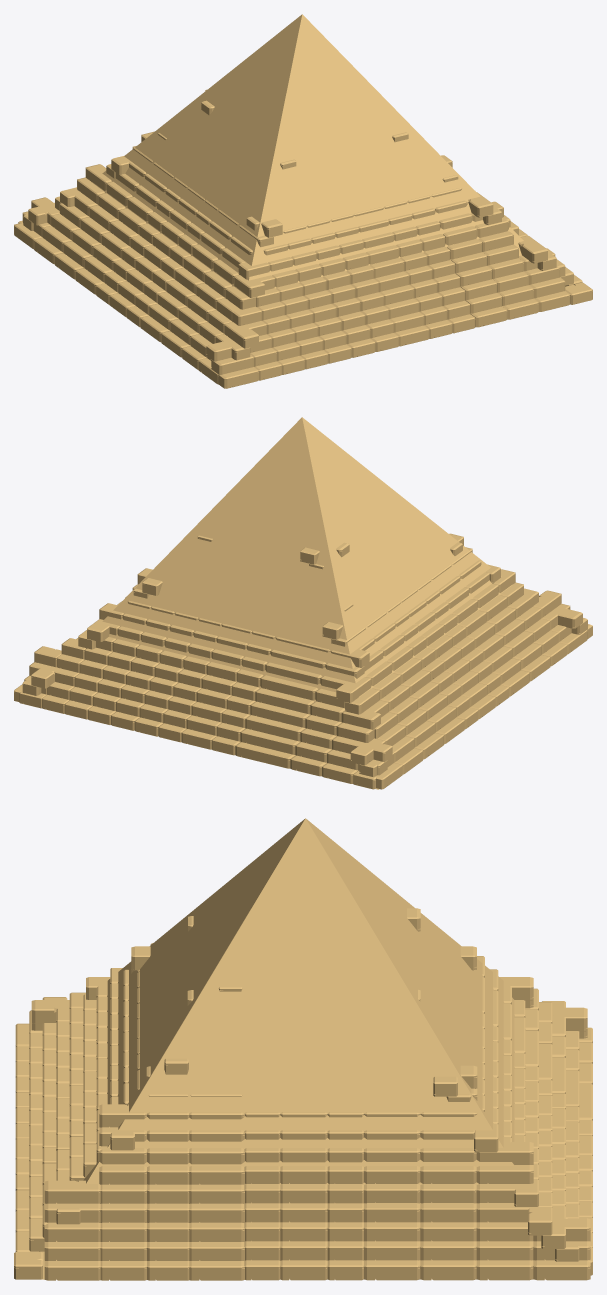
The model's file is Pyramids02.fbx.
3 views of the same model, one above another, from view 1: azimuth 30°, elevation 25°; view 2: azimuth 150°, elevation 25°; view 3: azimuth 270°, elevation 25° (orthographic). The views are drawn at different scales.
Parts seen in each view (by area): view 1: II.pyramid; view 2: II.pyramid; view 3: II.pyramid.
Part boxes in pixels (x1,y1,x2,y2): II.pyramid: (14,14,592,388); II.pyramid: (14,417,592,789); II.pyramid: (14,818,592,1280).
Size of the model in its own units: 7060 by 4597 by 7070.
